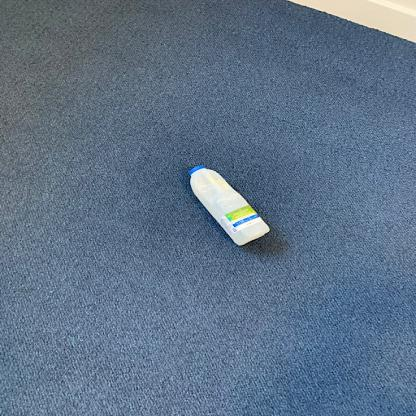trash: (190, 164, 271, 250)
